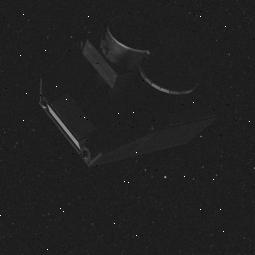cheops: (29, 22, 218, 161)
